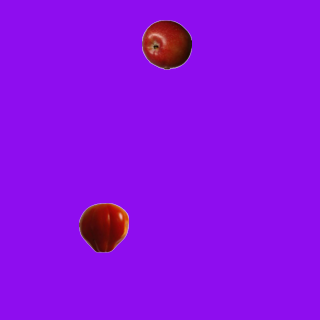Apple Braeburn: (141, 19, 191, 69)
Tomato 1: (78, 202, 128, 252)
